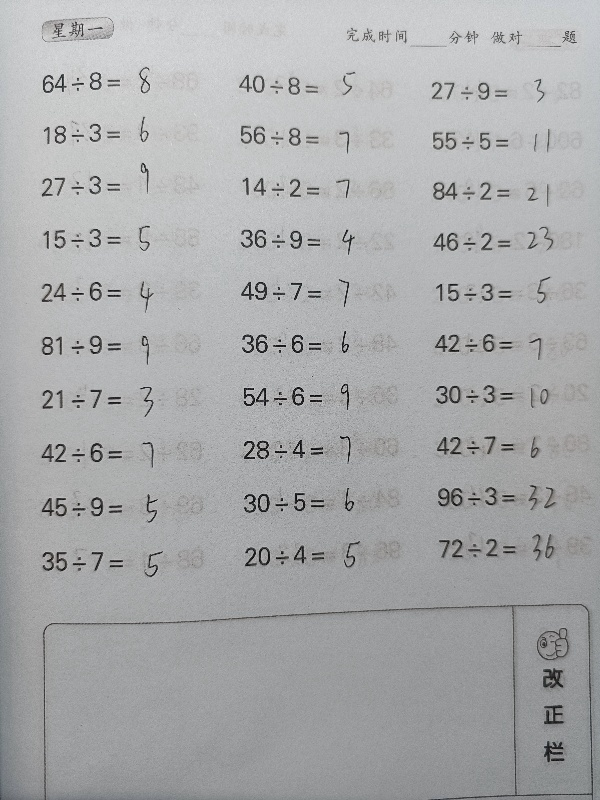equation: (33, 158, 216, 203), (428, 477, 588, 519), (34, 544, 214, 580), (427, 326, 581, 368), (236, 538, 416, 573), (33, 490, 213, 525), (234, 485, 414, 520), (33, 435, 213, 470), (34, 382, 214, 417), (235, 379, 415, 414), (32, 274, 212, 309), (34, 221, 214, 256), (231, 118, 411, 153), (424, 175, 588, 213), (431, 526, 586, 566), (233, 433, 413, 467), (32, 328, 212, 362), (234, 327, 414, 361), (233, 274, 413, 308), (232, 222, 412, 256), (230, 68, 410, 102), (33, 65, 213, 99), (233, 163, 368, 207), (428, 276, 581, 314), (425, 225, 588, 260), (427, 424, 577, 462), (423, 74, 581, 109), (30, 113, 174, 149), (424, 125, 581, 158), (427, 378, 583, 411)
